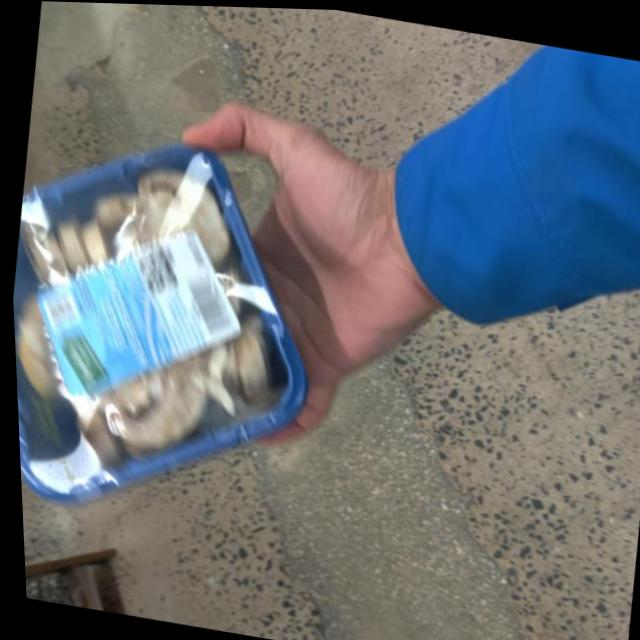Mushrooms: (2, 60, 366, 556)
